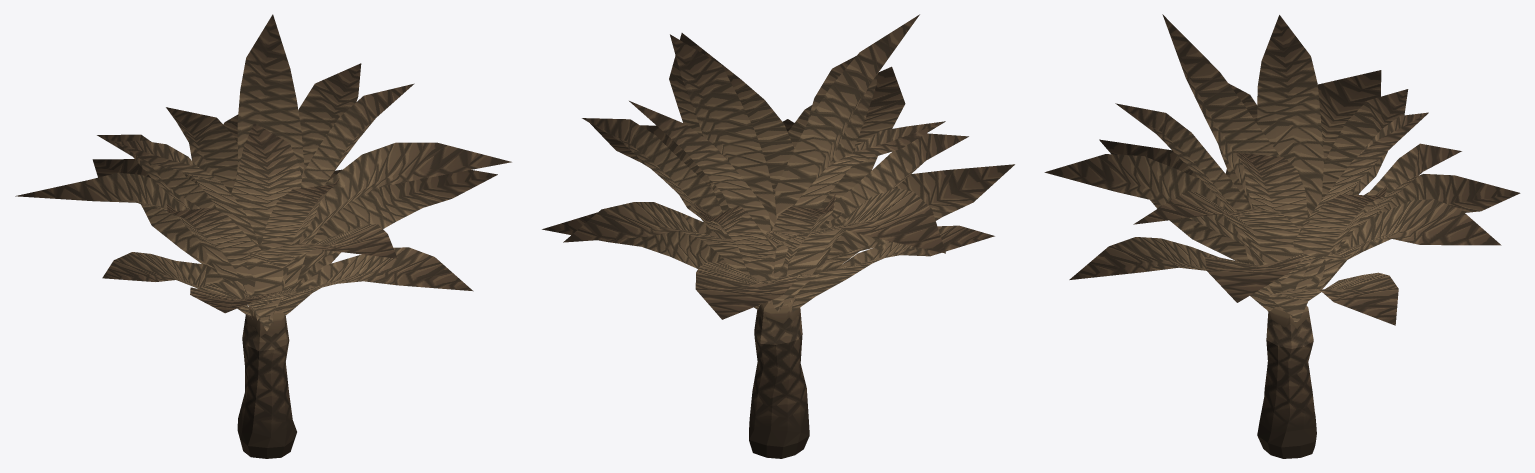
File: SM_Env_Tree_Palm_Small_06.fbx
3 renders of one model, left to right at view 1: azimuth 30°, elevation 25°; view 2: azimuth 150°, elevation 25°; view 3: azimuth 270°, elevation 25°, orthographic. The views are drawn at different scales.
Visible parts, largest first — view 1: SM_Env_Tree_Palm_Small_06_LOD0; view 2: SM_Env_Tree_Palm_Small_06_LOD0; view 3: SM_Env_Tree_Palm_Small_06_LOD0.
Boxes of the visible parts, bbox=[...] form: SM_Env_Tree_Palm_Small_06_LOD0: bbox=[15, 14, 511, 458]; SM_Env_Tree_Palm_Small_06_LOD0: bbox=[542, 14, 1014, 458]; SM_Env_Tree_Palm_Small_06_LOD0: bbox=[1044, 14, 1520, 458].
Size of what is drawn, in the model's own units: 776 by 708 by 762.
